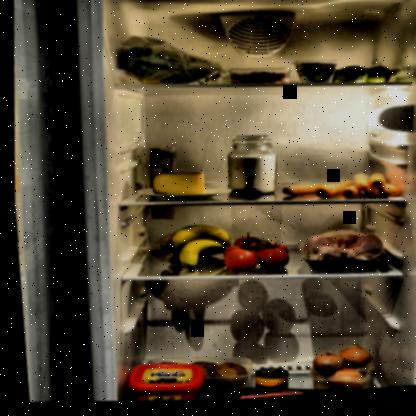banana: (153, 221, 233, 280)
butter: (121, 358, 201, 408)
carrot: (277, 172, 401, 213)
cheese: (146, 169, 205, 203)
chicken: (292, 228, 392, 283)
corn: (244, 367, 286, 398)
ground_beef: (225, 385, 340, 402)
heavy_cream: (144, 146, 177, 191)
lime: (332, 68, 393, 93)
onion: (301, 348, 373, 397)
potato: (181, 356, 254, 399)
shrimp: (230, 70, 289, 94)
spinach: (104, 29, 229, 96)
tomato: (214, 231, 292, 282)
